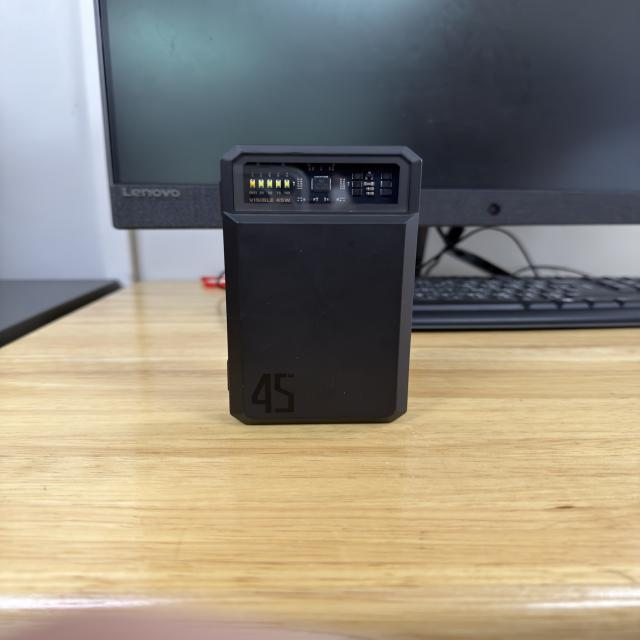power bank: (216, 142, 417, 428)
